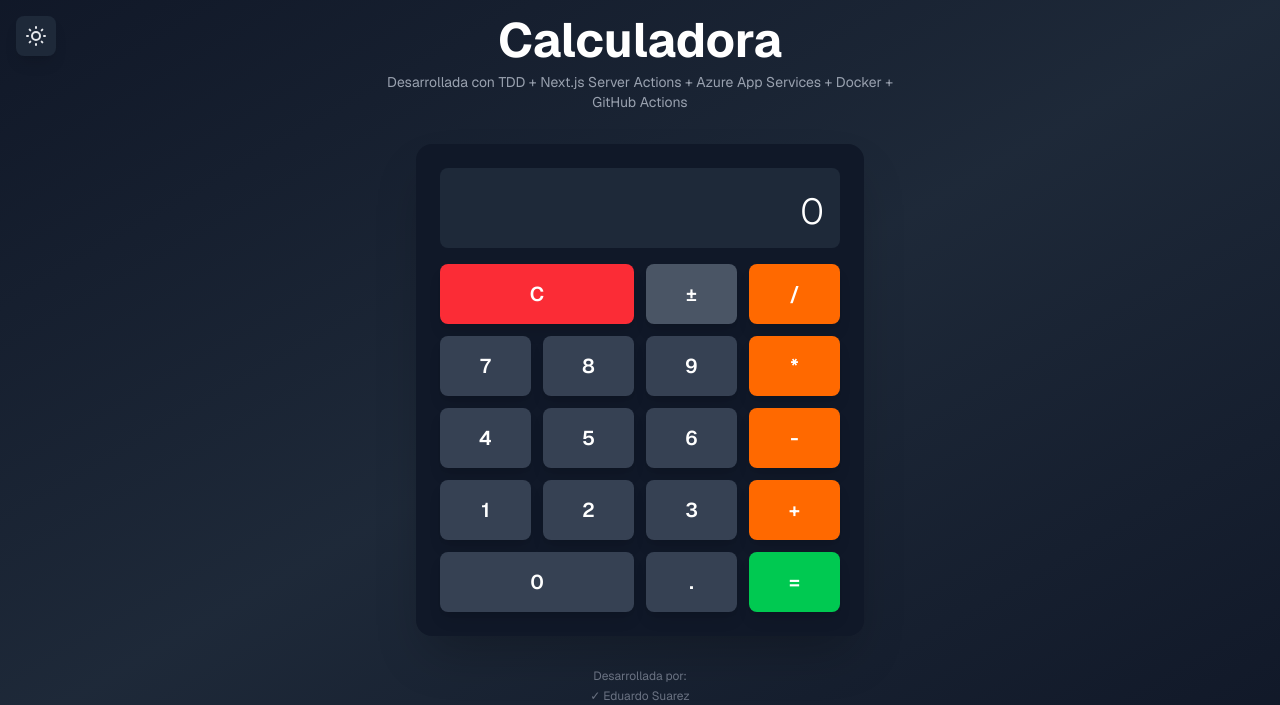
Test: Calculadora - Pruebas de Integración › Operaciones Básicas › debe realizar una suma correctamente
The width and height of the screenshot is (1280, 705).
expect the heading "Calculadora" is shown: met, box [498,9,782,71]
Step 1. Click the button "5" → (589, 438), box [543,408,634,468]
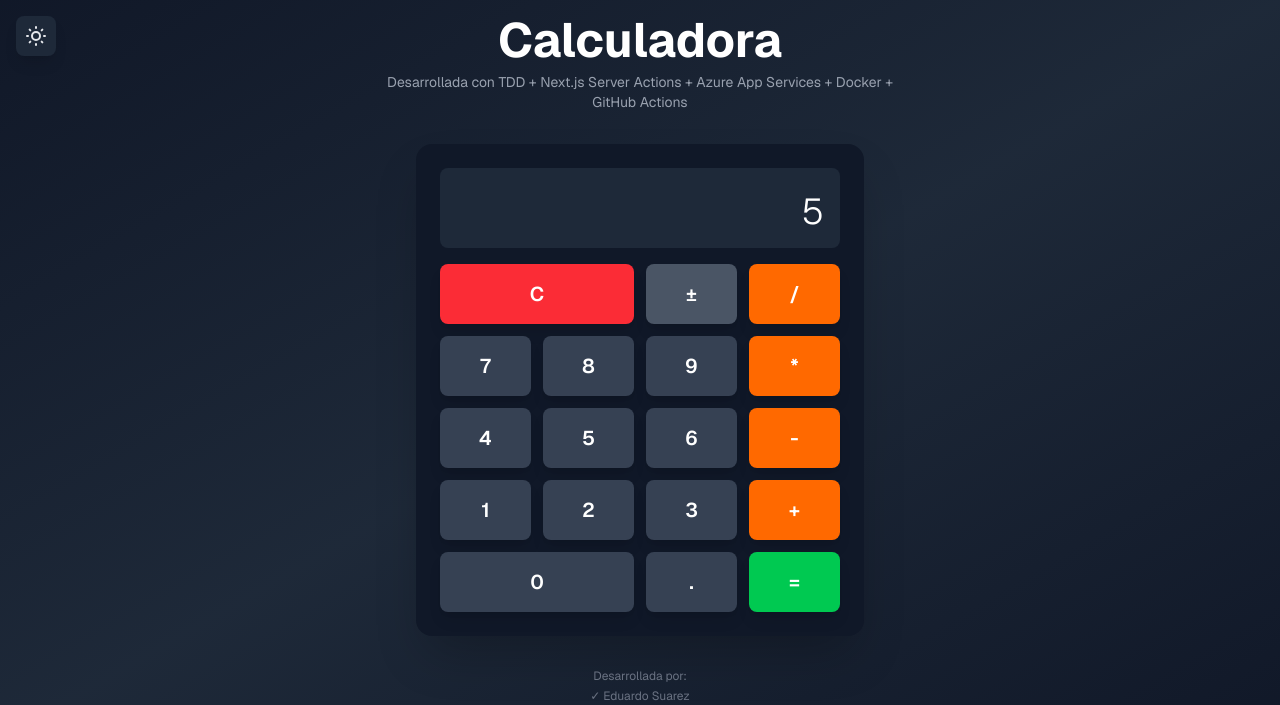
expect the text "5" is shown: met, box [802,188,824,235]
Step 2. Click the button "+" → (795, 510), box [749,480,840,540]
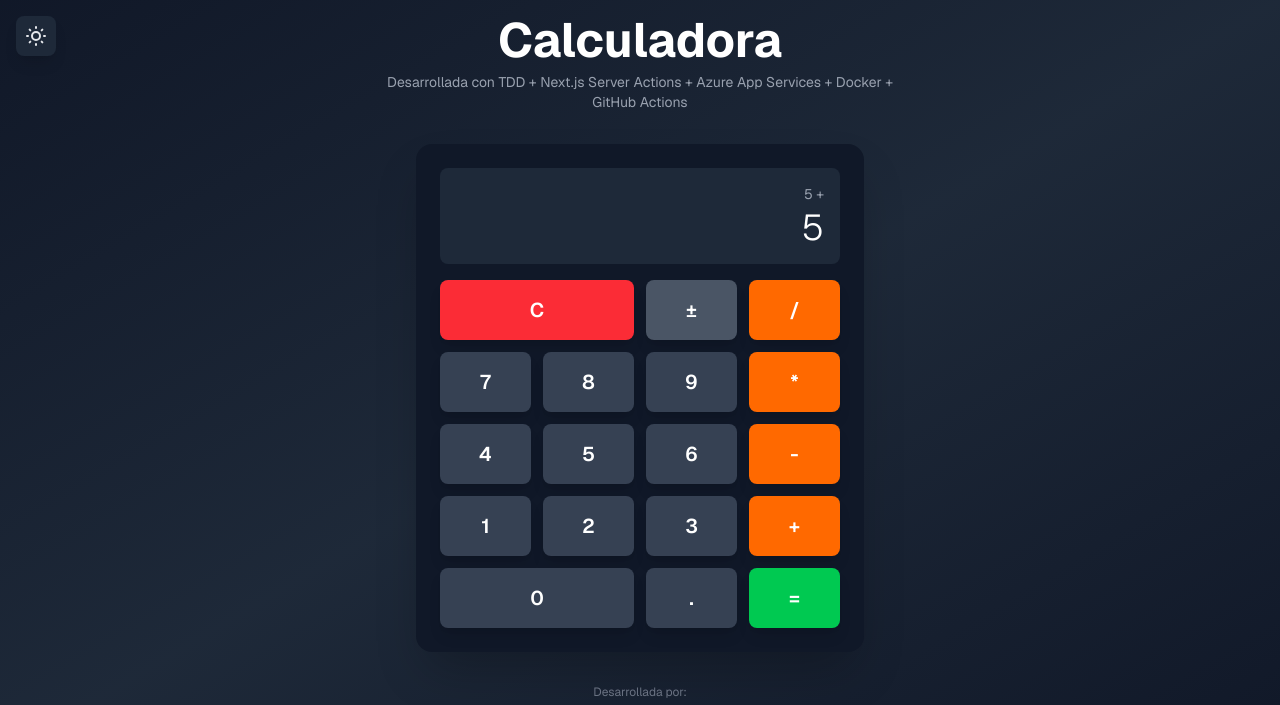
Step 3. Click the button "3" → (692, 526), box [646,496,737,556]
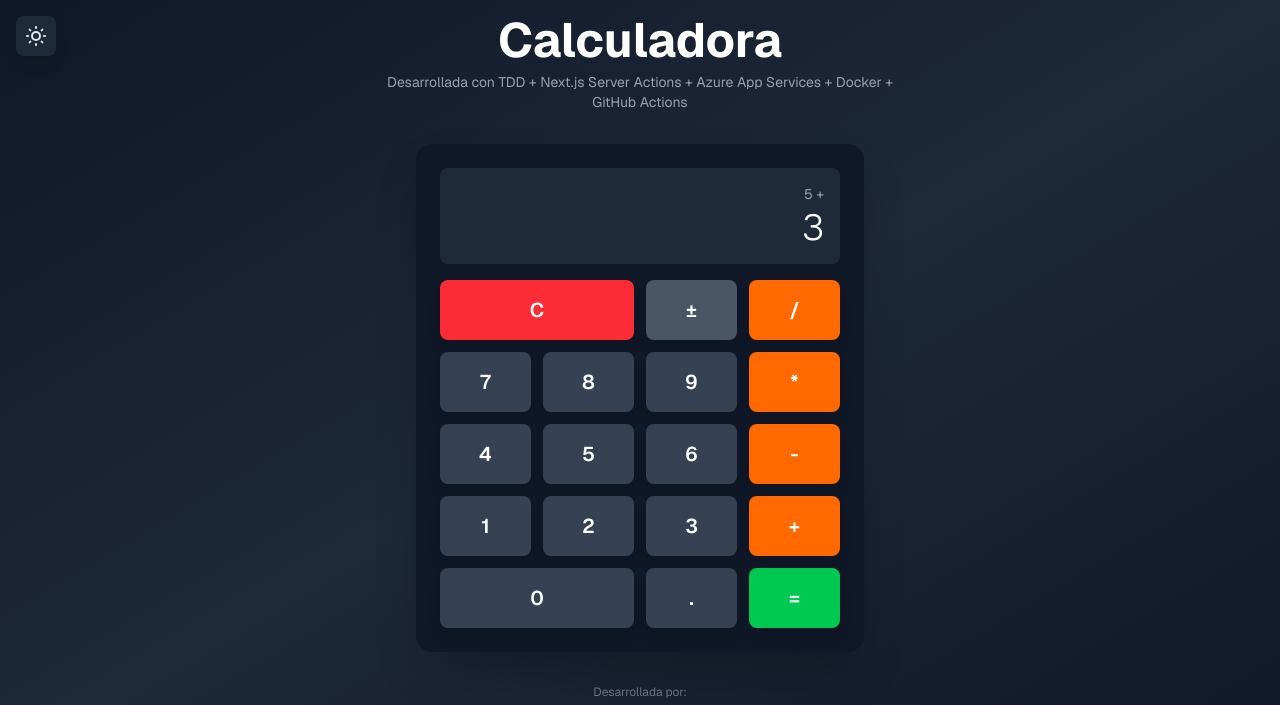
expect the text "3" is shown: met, box [802,204,824,251]
Step 4. Click the button "=" → (795, 598), box [749,568,840,628]
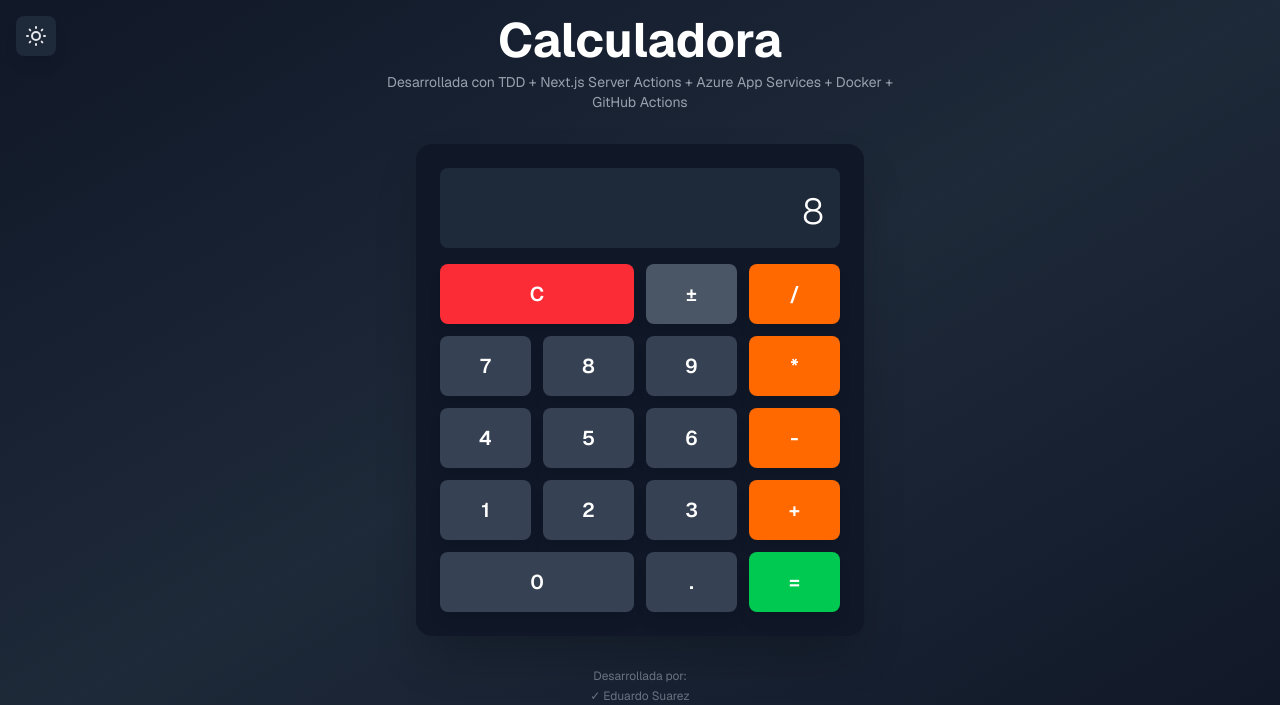
expect the text "8" is shown: met, box [802,188,824,235]
